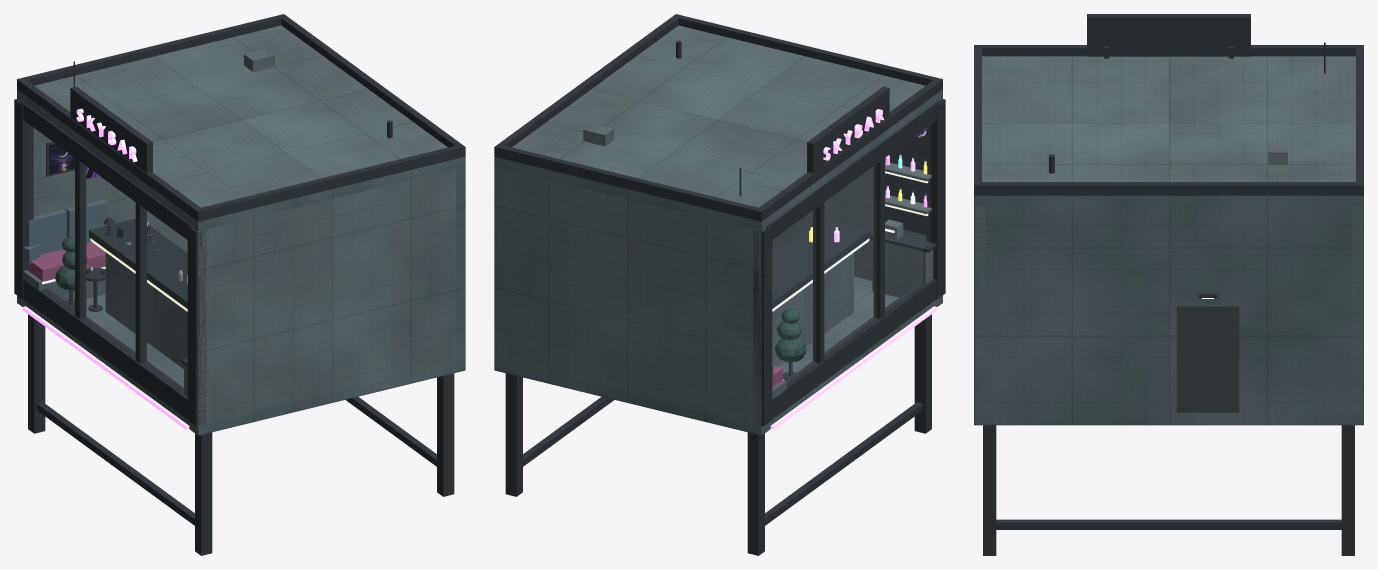
The model's file is synthwave-lounge.glb.
3 views of the same model, side by side, from view 1: azimuth 30°, elevation 25°; view 2: azimuth 150°, elevation 25°; view 3: azimuth 270°, elevation 25° (orthographic). The views are drawn at different scales.
Parts seen in each view (by area): view 1: Lng_Body2, Lng_Frame, Lng_Body, Lng_PaneOff, Lng_LoungeCushion2, Lng_LoungeCushion, DeckGlow, Lng_Foliage, Lng_LoungeSign, Sign_LngArt0; view 2: Lng_Body2, Lng_Frame, Lng_Body, Lng_PaneOff, Lng_Foliage, DeckGlow, Lng_LoungeSign; view 3: Lng_Body, Lng_Body2, Lng_Frame, Lng_Door.
Part boxes in pixels (bbox=[...]): Lng_Body2: bbox=[33, 25, 455, 425]; Lng_Frame: bbox=[14, 14, 465, 555]; Lng_Body: bbox=[17, 89, 465, 435]; Lng_PaneOff: bbox=[86, 219, 187, 366]; Lng_LoungeCushion2: bbox=[24, 200, 107, 264]; Lng_LoungeCushion: bbox=[27, 242, 105, 281]; DeckGlow: bbox=[22, 306, 189, 429]; Lng_Foliage: bbox=[55, 237, 87, 291]; Lng_LoungeSign: bbox=[76, 108, 137, 161]; Sign_LngArt0: bbox=[49, 144, 74, 174]; Lng_Body2: bbox=[494, 25, 931, 425]; Lng_Frame: bbox=[494, 14, 945, 555]; Lng_Body: bbox=[494, 89, 942, 435]; Lng_PaneOff: bbox=[772, 219, 936, 308]; Lng_Foliage: bbox=[775, 308, 806, 362]; DeckGlow: bbox=[770, 306, 937, 429]; Lng_LoungeSign: bbox=[823, 109, 884, 160]; Lng_Body: bbox=[974, 195, 1363, 425]; Lng_Body2: bbox=[974, 56, 1363, 414]; Lng_Frame: bbox=[974, 14, 1363, 555]; Lng_Door: bbox=[1176, 305, 1239, 412].
Size of the model in its own units: 0.872 by 1.15 by 1.
37 materials, 5 textured.
